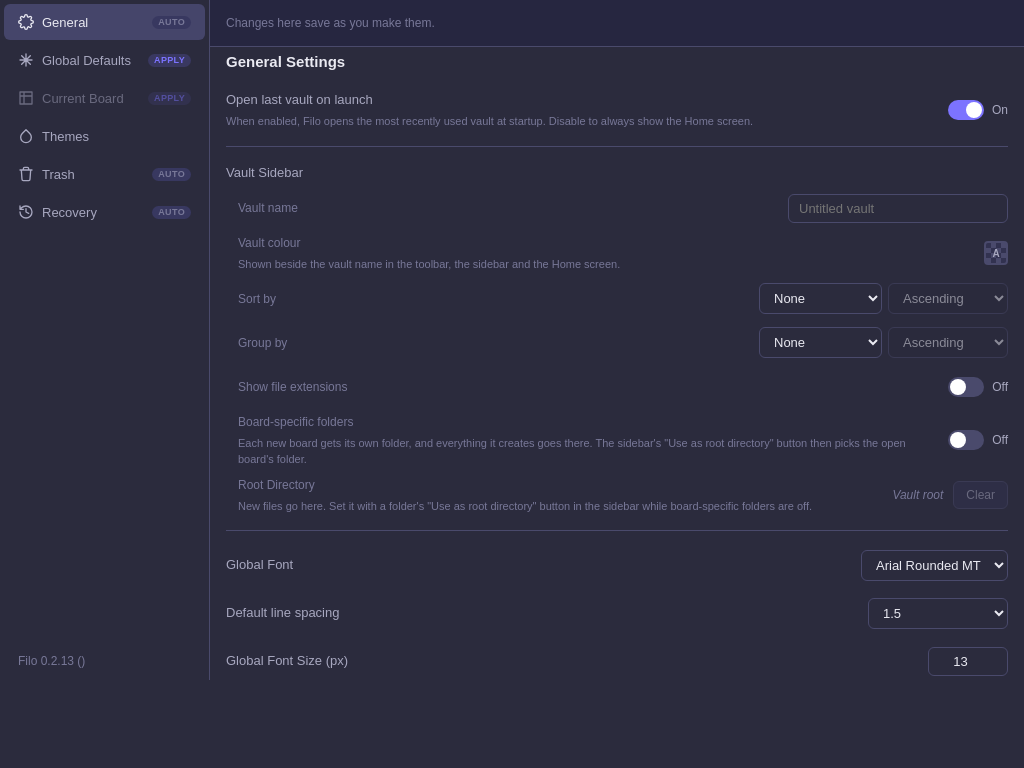
it: Settings dialog › enables Apply / Revert only while Global Defaults has changes
Click the tab with id "settings-tab-defaults" at x=104, y=60, box top-left (4, 42), bottom-right (205, 78)
(page scrolled)
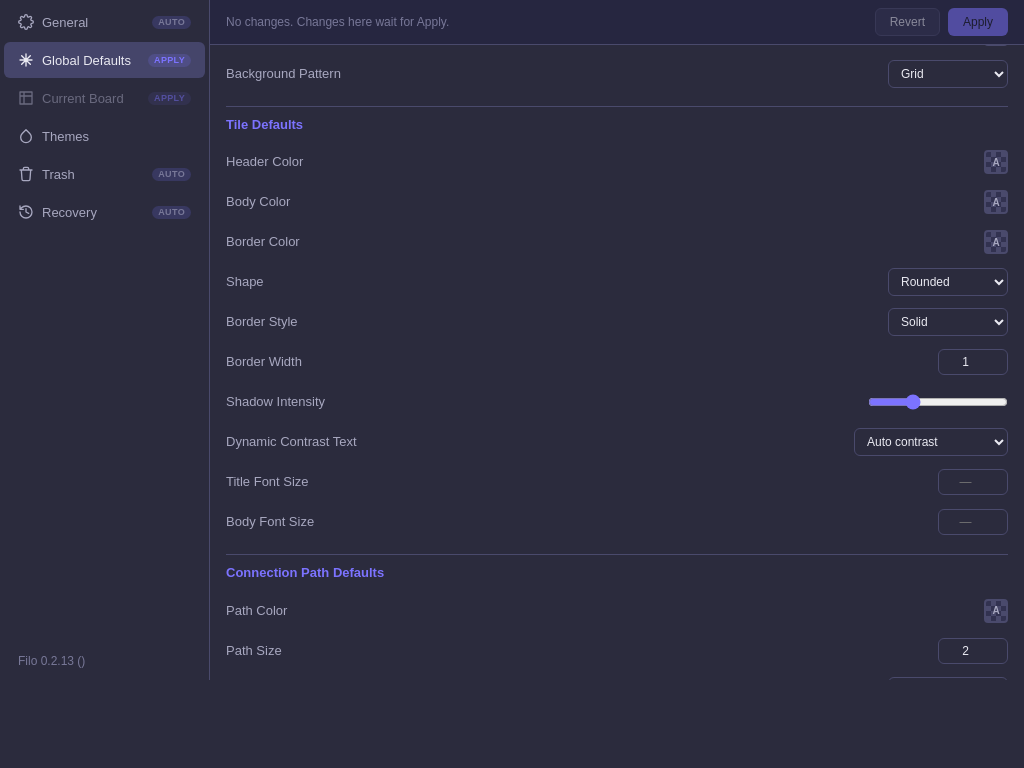
Check: the button "Apply" is disabled, box top-left (948, 8), bottom-right (1008, 36)
Check: the button "Revert" is disabled, box top-left (875, 8), bottom-right (940, 36)
Replace the text in the number field with id "mm-border-width" with "50" at x=973, y=362, box top-left (938, 349), bottom-right (1008, 375)
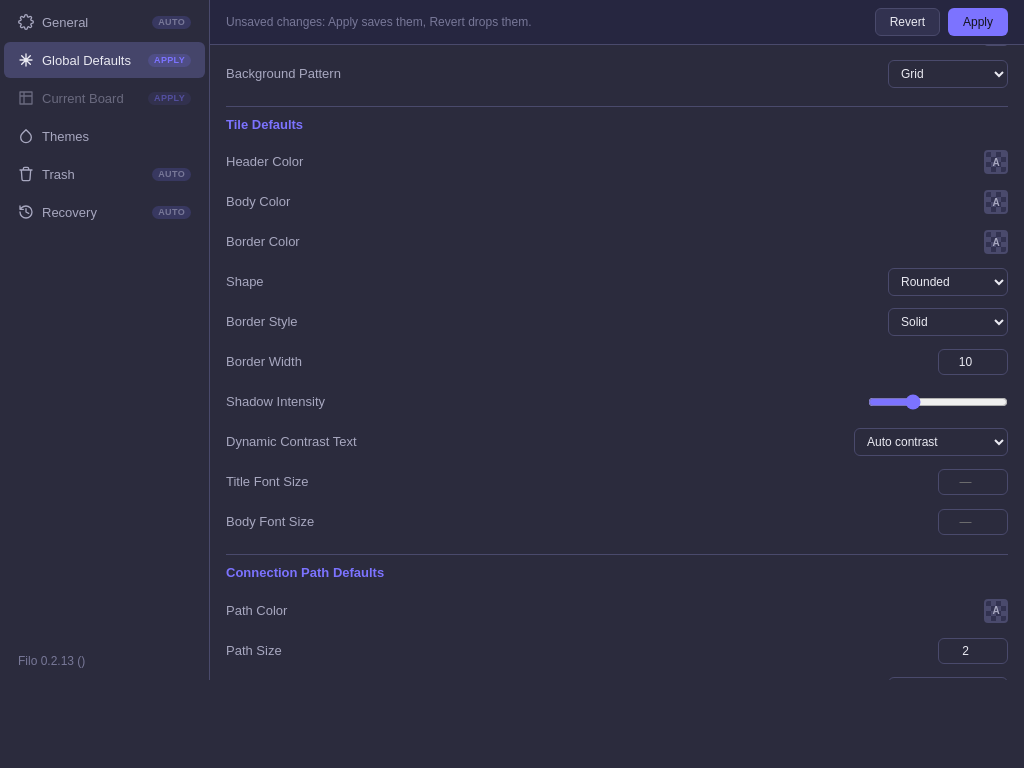
Check: the number field with id "mm-border-width" holds "10", box top-left (938, 349), bottom-right (1008, 375)
Check: the button "Apply" is enabled, box top-left (948, 8), bottom-right (1008, 36)
Click the button "Revert" at x=907, y=22, box top-left (875, 8), bottom-right (940, 36)
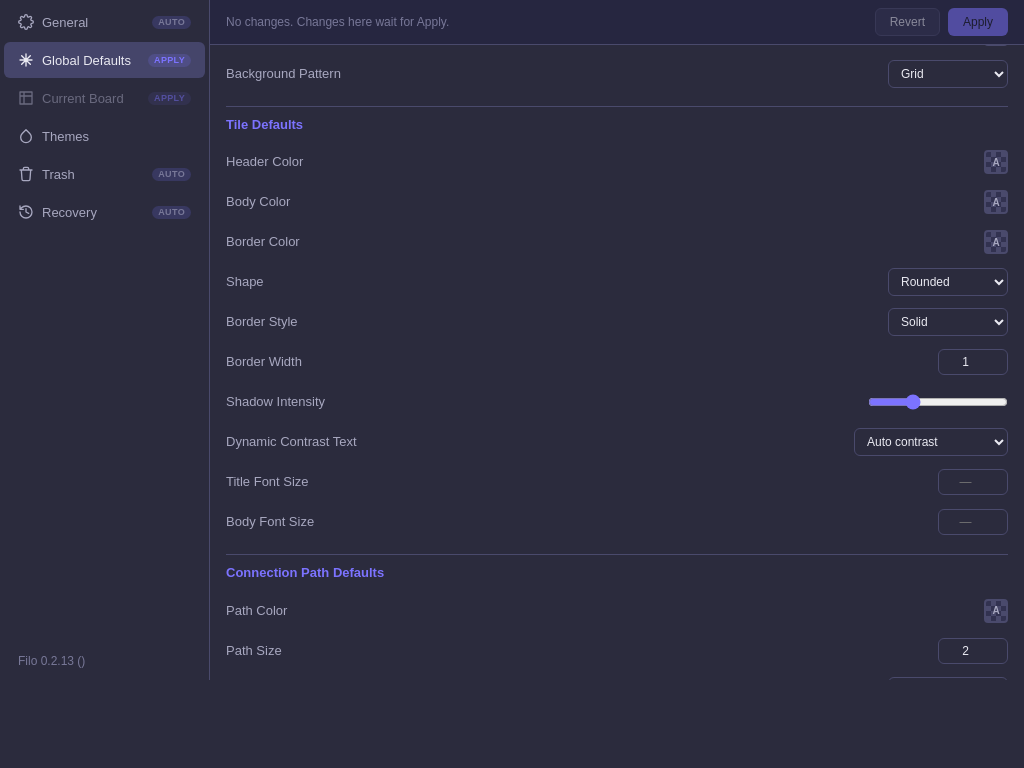
Check: the button "Apply" is disabled, box top-left (948, 8), bottom-right (1008, 36)
